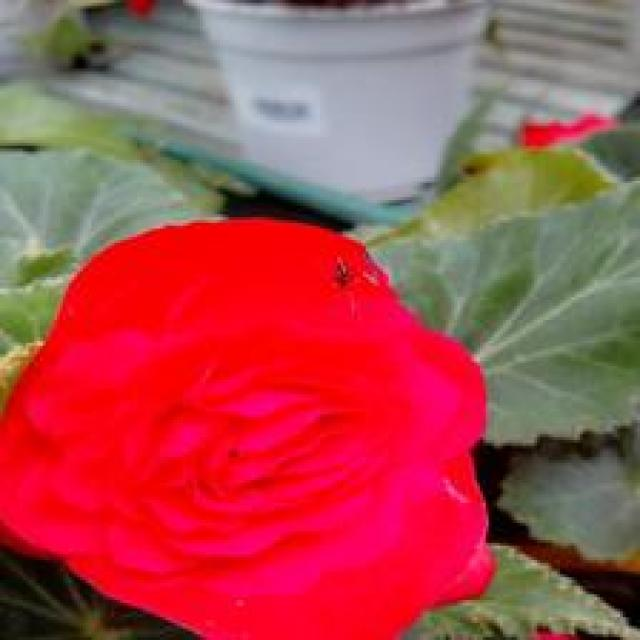Aedes albopictus: (0, 214, 497, 640)
